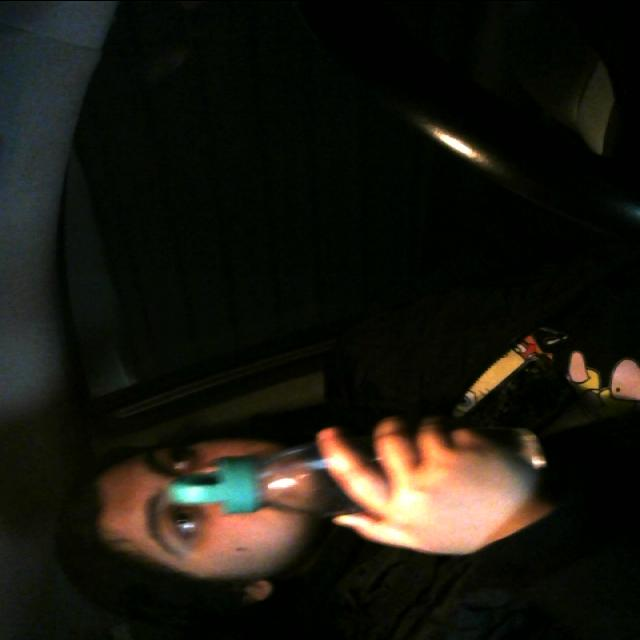drinking: (170, 426, 552, 526)
